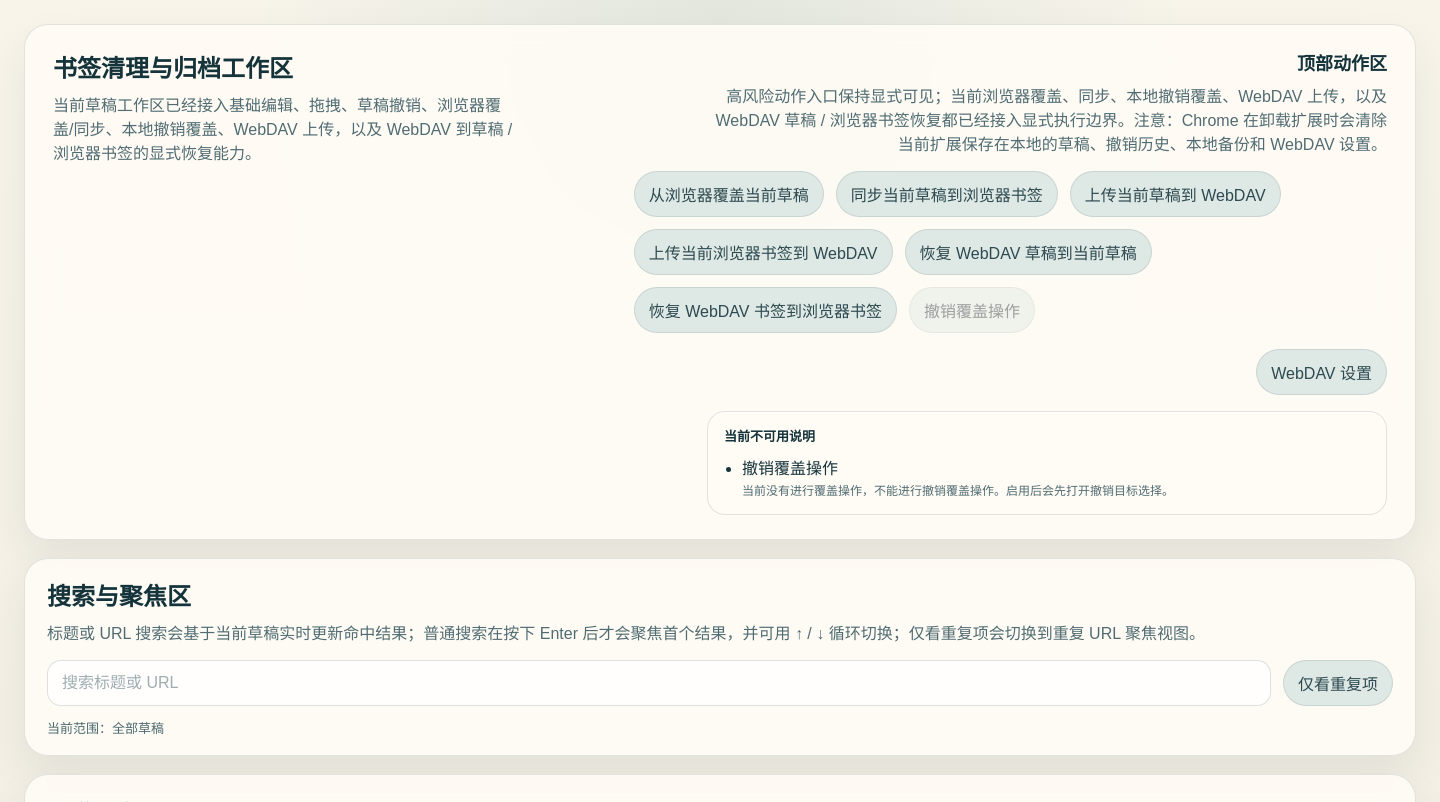
Test case: T12B WebDAV browser restore flow › loads browser-only remote versions, creates a browser backup before browser mutation, and keeps the current draft unchanged after confirmation
Click the button "恢复 WebDAV 书签到浏览器书签".
click(765, 310)  # box 634,287 -> 897,333
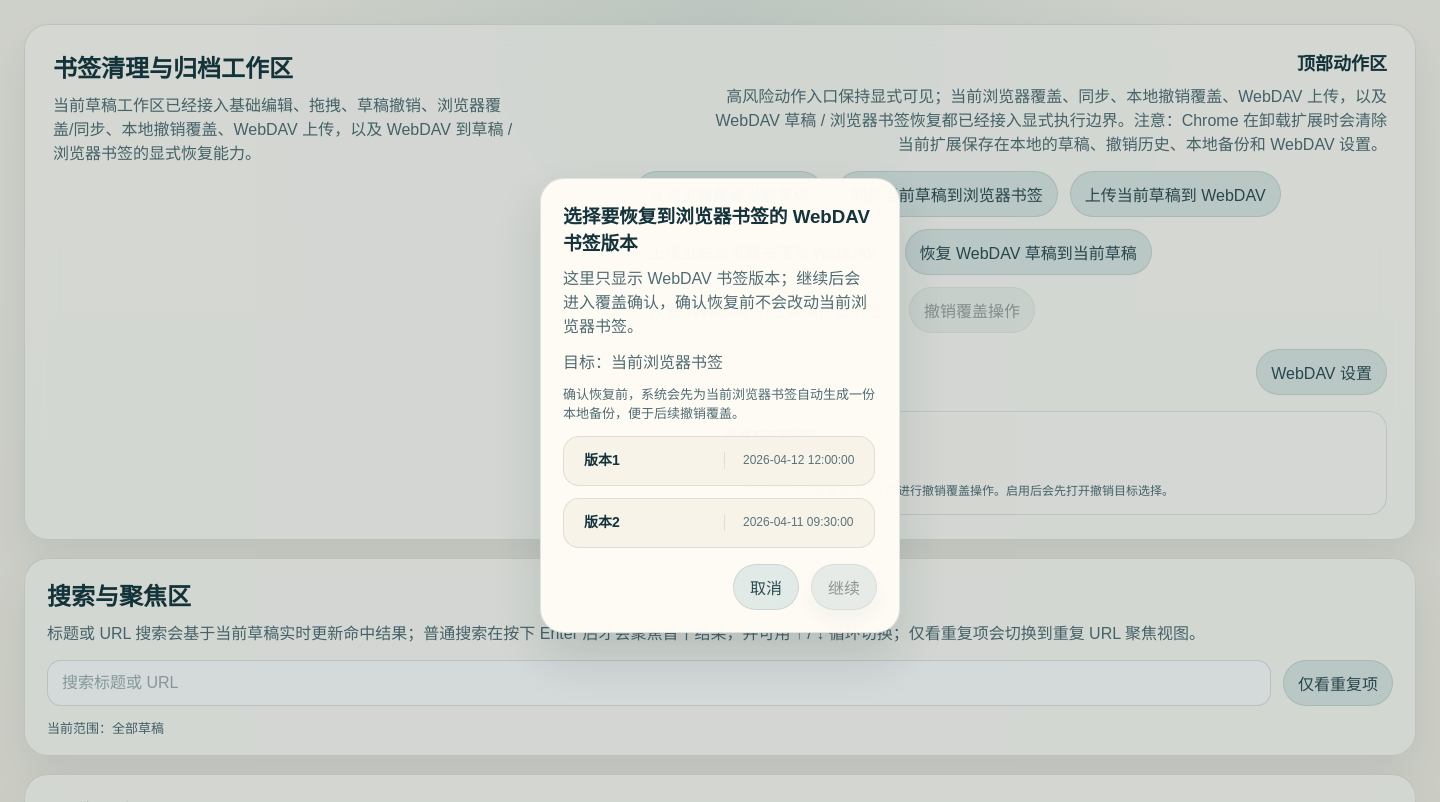
Check: the text "浏览器书签" is shown, box 53,97 -> 512,162
Check: the text "版本1" is shown
Check: the text "版本2" is shown, box 584,513 -> 620,532
Click the text "版本1".
click(602, 460)  # box 584,451 -> 620,470
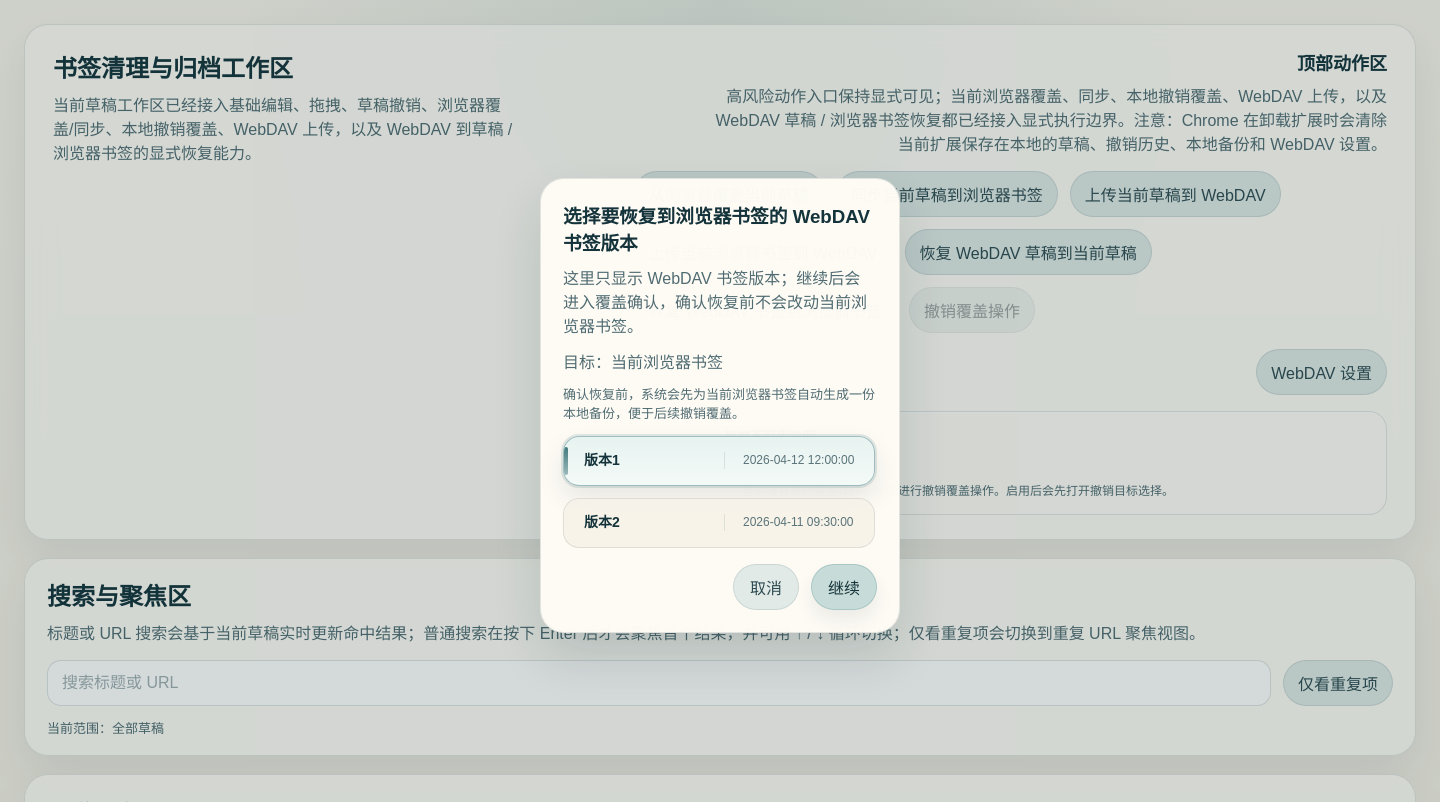
Click the button "继续".
click(844, 586)  # box 811,564 -> 877,610
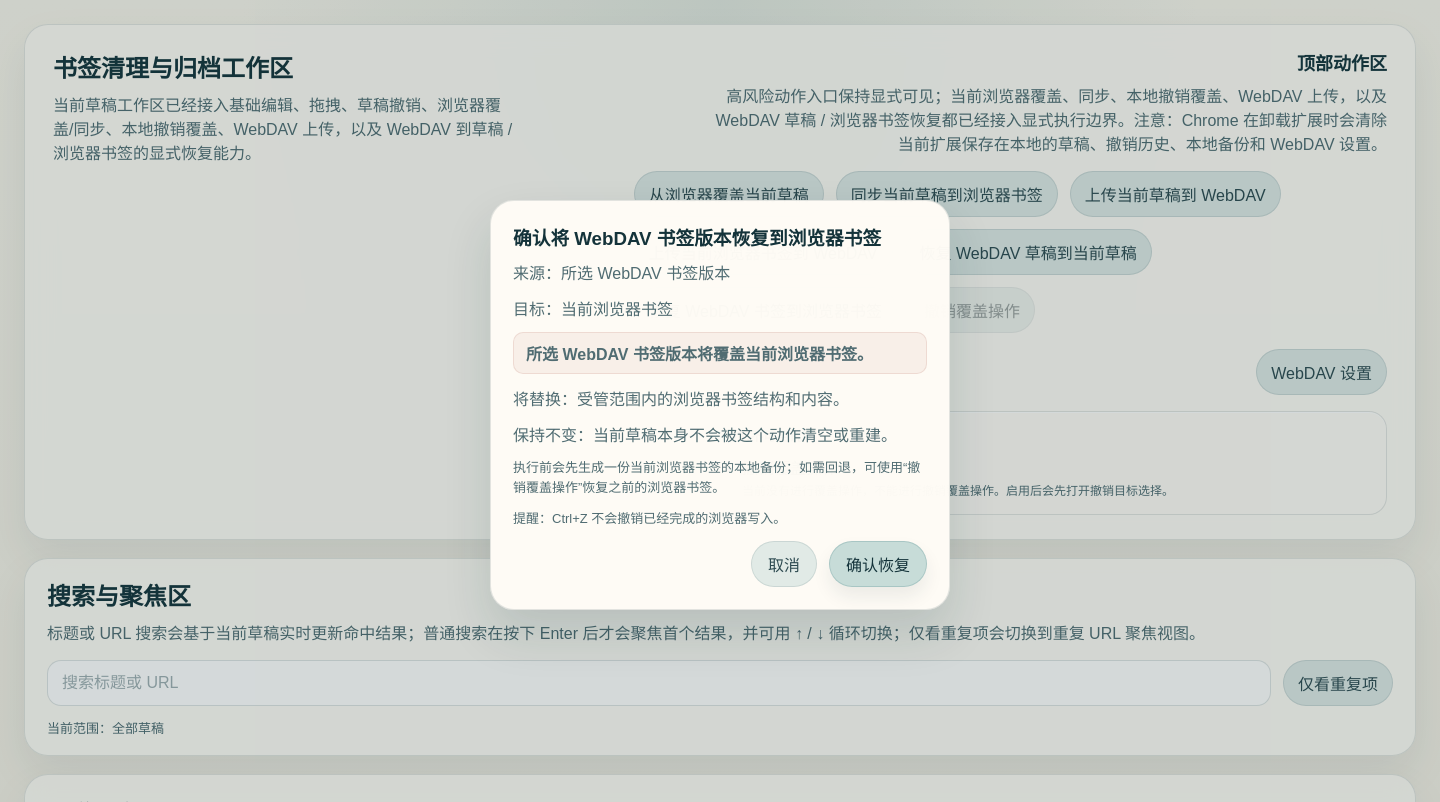
Check: the text "恢复 WebDAV 书签到浏览器书签" is shown, box 634,287 -> 897,333
Check: the text "本地备份" is shown, box 716,88 -> 1387,153
Click the button "确认恢复".
click(878, 564)  # box 829,541 -> 927,587
(page scrolled)
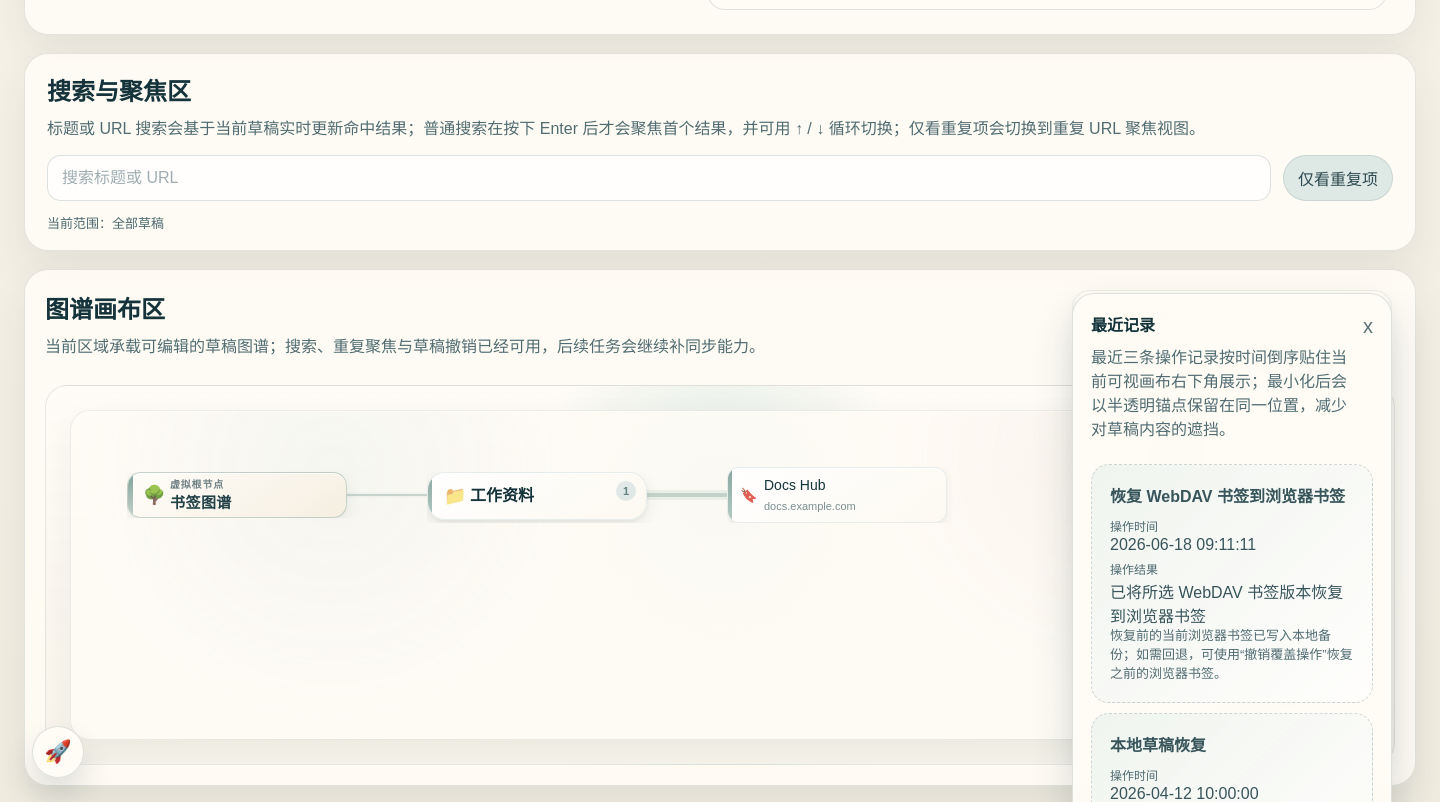
Check: the button with aria-label "书签节点：Docs Hub" is shown, box 727,467 -> 947,523
Check: the text "已将所选 WebDAV 书签版本恢复到浏览器书签" is shown, box 1110,579 -> 1354,627
